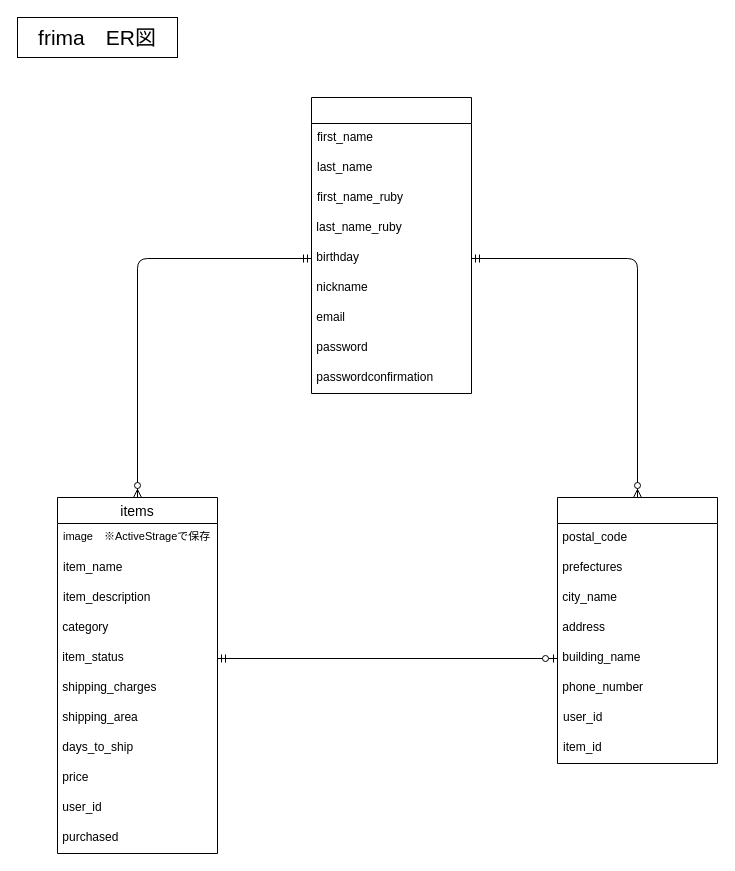
The diagram is 735 pixels wide and 871 high, and some of its shapes have lost their labels. The shapes that lost their labels are listed below. From the top down, each one's box as (x1, y1, x2, y2) in pixels, then its label:
(310, 96, 472, 394): users
(556, 496, 718, 764): List
